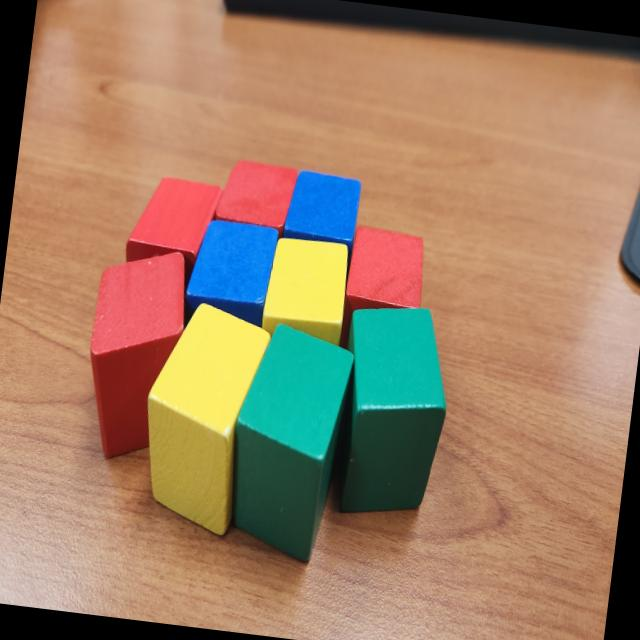blue: (180, 217, 282, 341), (276, 168, 362, 288)
green: (218, 318, 359, 567), (326, 298, 459, 526)
red: (76, 242, 196, 467), (113, 172, 224, 332), (340, 223, 430, 328), (212, 156, 300, 237)
yellow: (132, 297, 275, 542), (260, 234, 354, 350)
